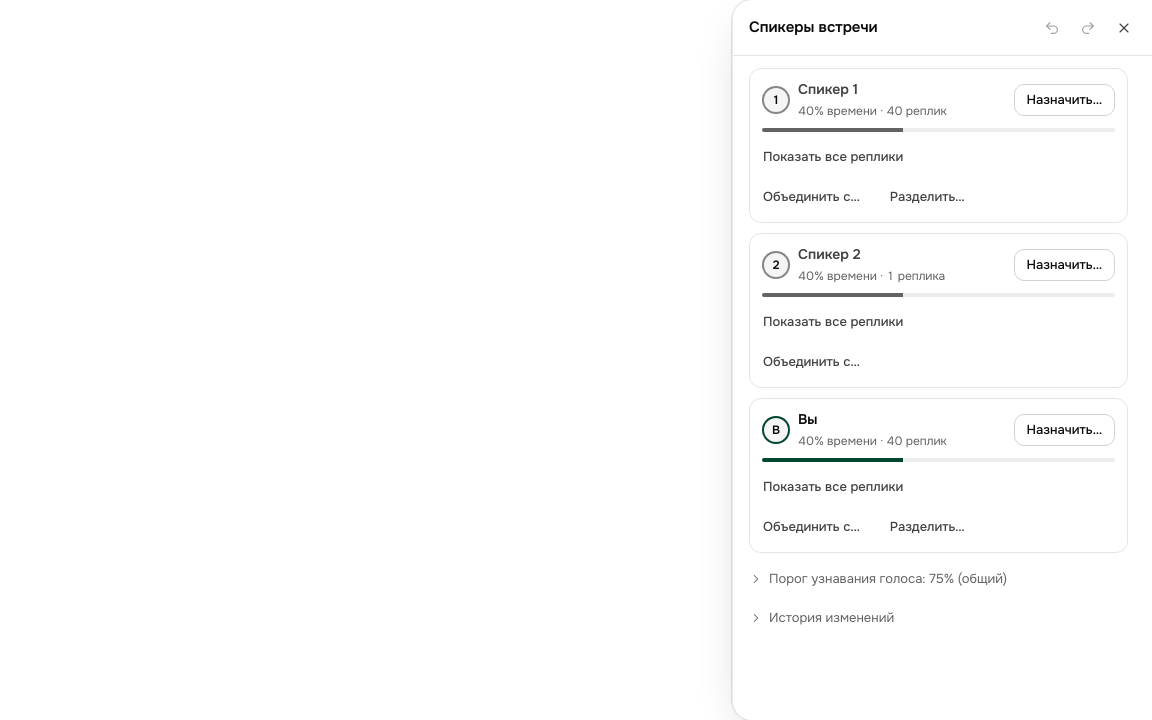
порог узнавания: предпросмотр изменений по ползунку и применение
This screenshot has width=1152, height=720.
Expected: the element "Спикер 1" is shown, [749,68,1128,223]
Click the button "Порог узнавания голоса: 75% (общий)": (878, 579) [749,567,1007,590]
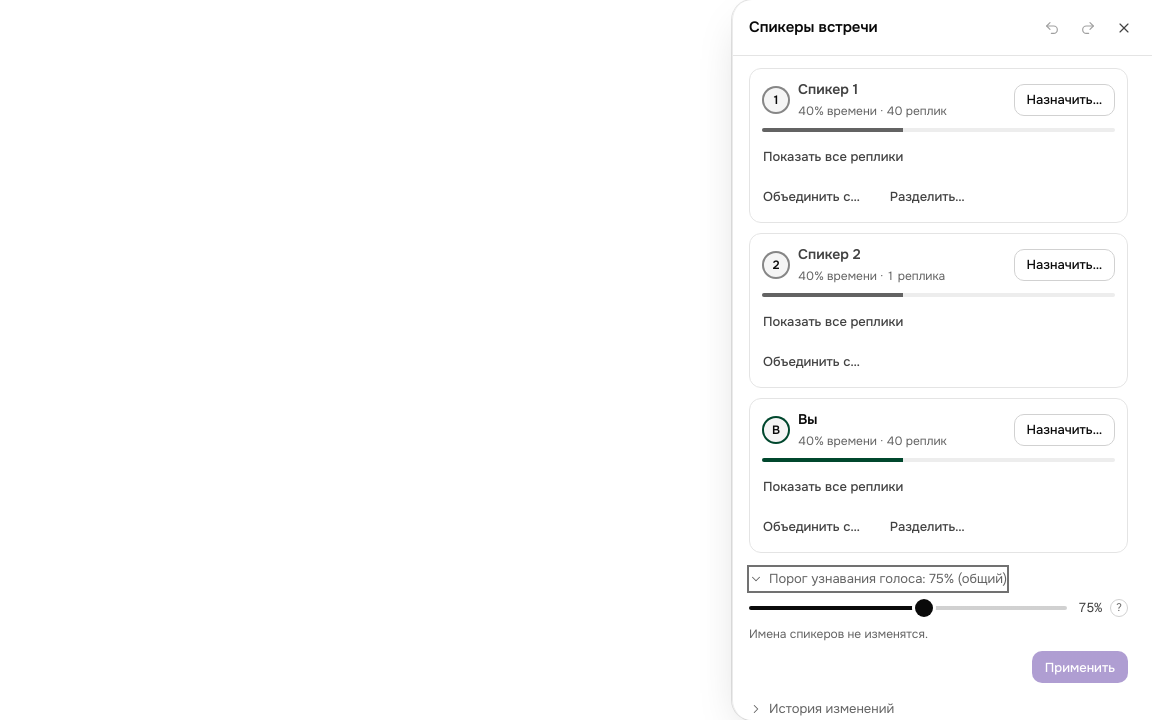
Expected: the text "Имена спикеров не изменятся." is shown, [749,626,928,642]
Note: fireEvent: у ползунка нет набора с клавиатуры в jsdom.
Set the slider named "Порог узнавания голоса, %" to "70": (891, 608) [749,598,1067,616]
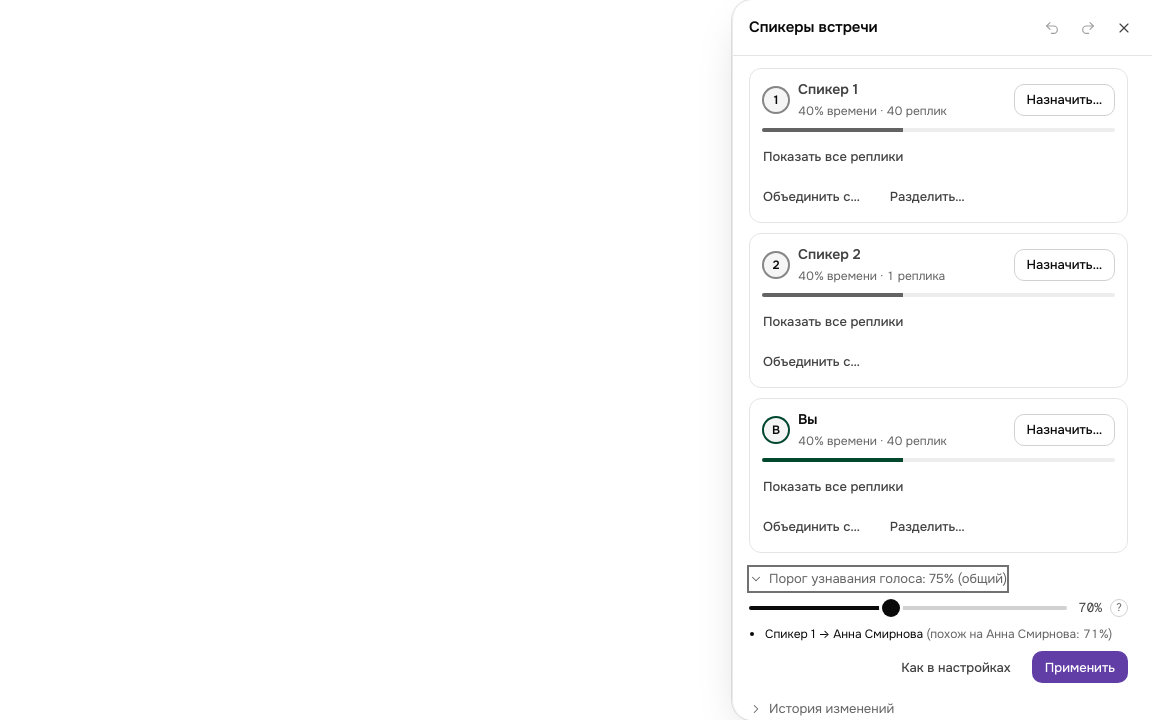
Expected: the list item "Спикер 1 → Анна Смирнова (похож на Анна Смирнова: 71%)" is shown, [765,625,1128,643]
Expected: the text "(похож на Анна Смирнова: 71%)" is shown, [923,626,1112,642]
Click the button "Применить": (1080, 667) [1032,651,1128,683]
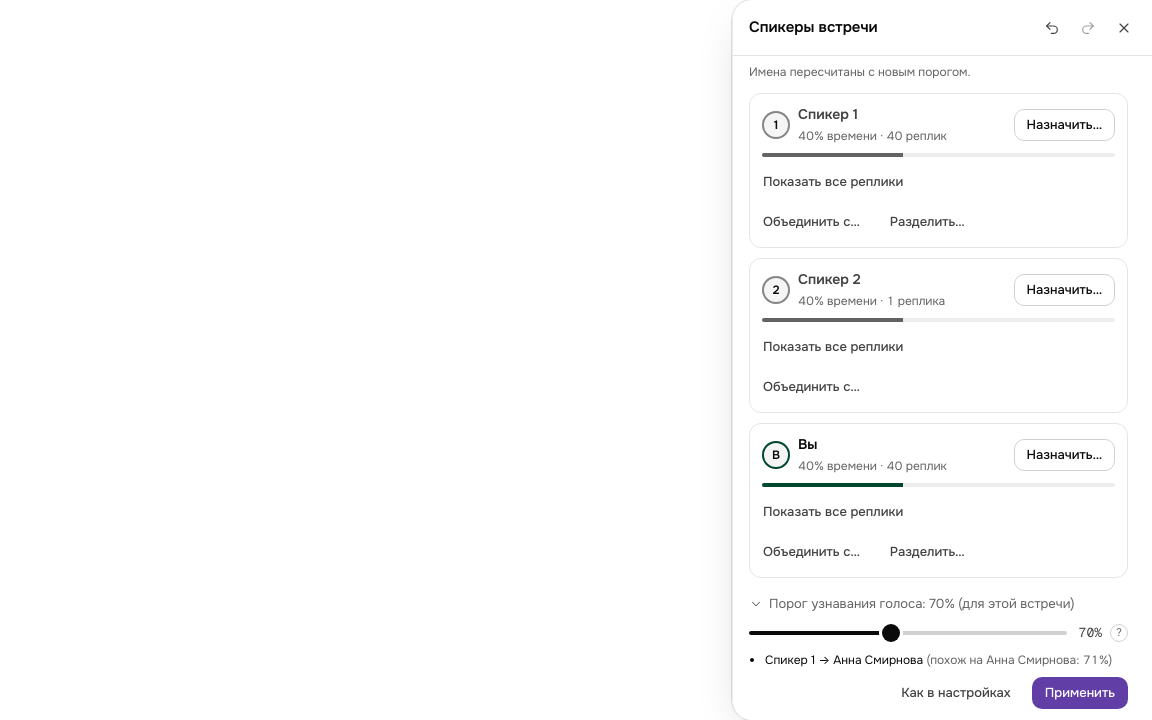
Expected: the text "Имена пересчитаны с новым порогом." is shown, [749,64,971,80]
